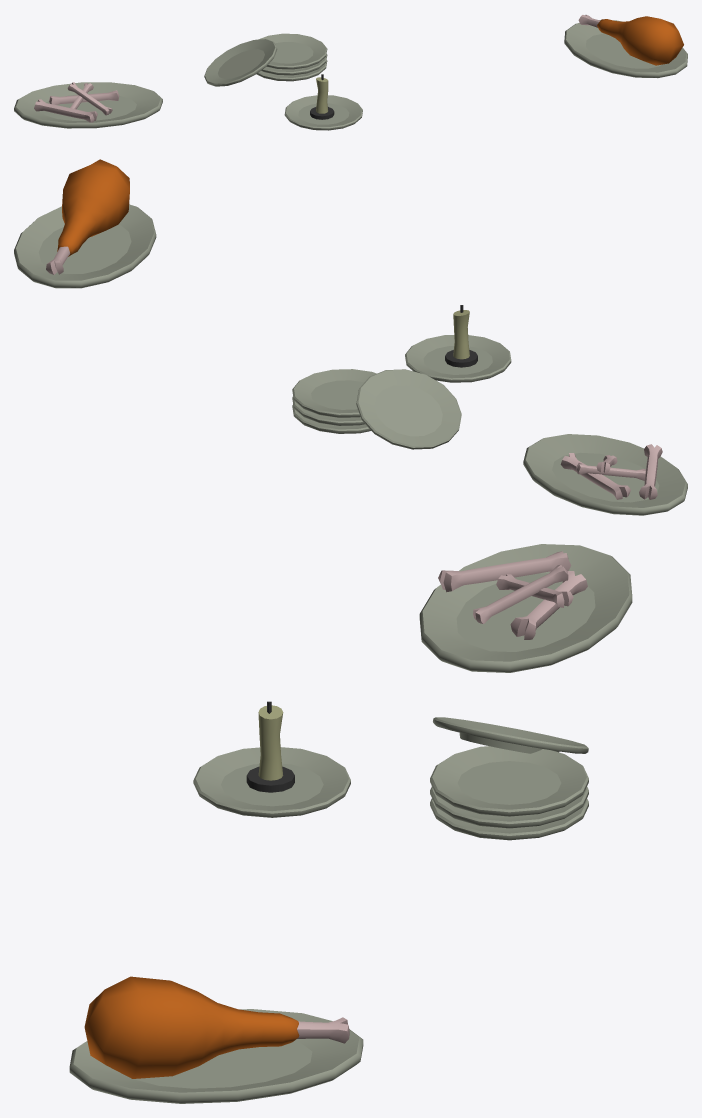
The model's file is Plattery_3.fbx.
3 renders of one model, top to bottom at view 1: azimuth 30°, elevation 25°; view 2: azimuth 150°, elevation 25°; view 3: azimuth 270°, elevation 25°, orthographic. The views are drawn at different scales.
Parts seen in each view (by area): view 1: 1_Plattery_2; view 2: 1_Plattery_2; view 3: 1_Plattery_2.
Boxes of the visible parts, x1,y1,x2,y2 form: 1_Plattery_2: (14, 14, 687, 130); 1_Plattery_2: (14, 159, 687, 515); 1_Plattery_2: (69, 544, 632, 1103).
Bounding box in the file's own units: 185 × 15.76 × 79.67.
